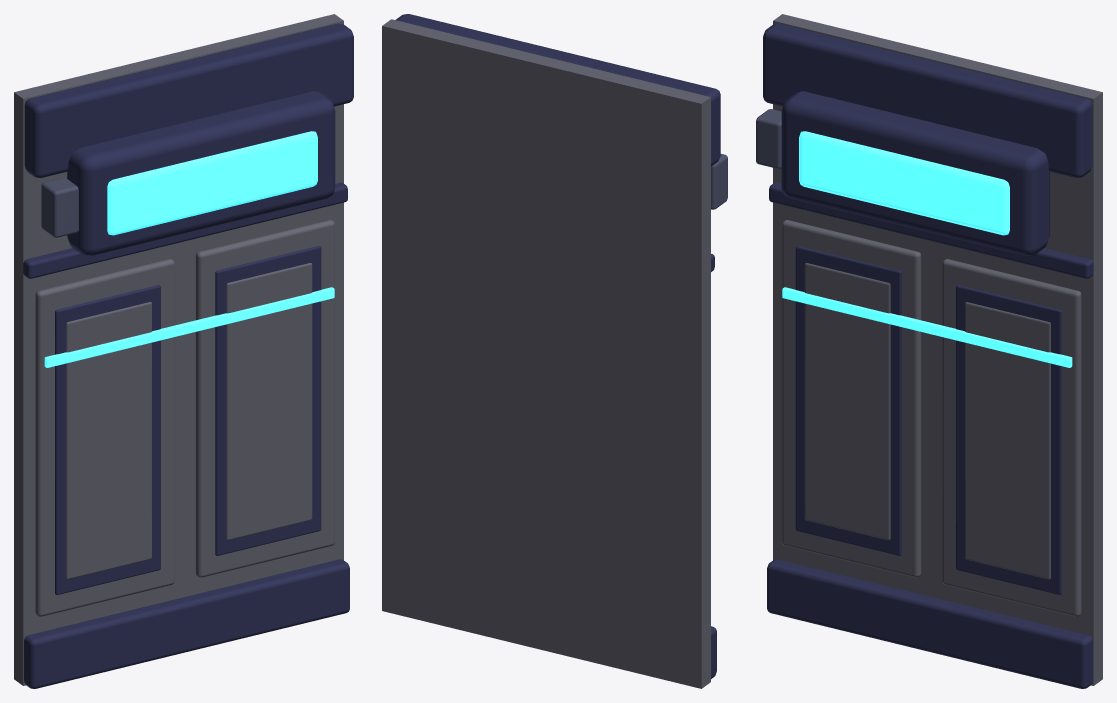
Rendered from int.wallpanel.cockpit+cyanbox.w1.s0.i1.glb.
3 renders of one model, left to right at view 1: azimuth 30°, elevation 25°; view 2: azimuth 150°, elevation 25°; view 3: azimuth 330°, elevation 25°, orthographic.
Visible parts, largest first — view 1: int.wallpanel.cockpit+cyanbox.w1.s0.i1; view 2: int.wallpanel.cockpit+cyanbox.w1.s0.i1; view 3: int.wallpanel.cockpit+cyanbox.w1.s0.i1.
Boxes of the visible parts, x1=… form: int.wallpanel.cockpit+cyanbox.w1.s0.i1: x1=14, y1=14, x2=353, y2=688; int.wallpanel.cockpit+cyanbox.w1.s0.i1: x1=382, y1=14, x2=727, y2=688; int.wallpanel.cockpit+cyanbox.w1.s0.i1: x1=756, y1=14, x2=1102, y2=688.
Size of the model in its own units: 1 by 1.75 by 0.22.
